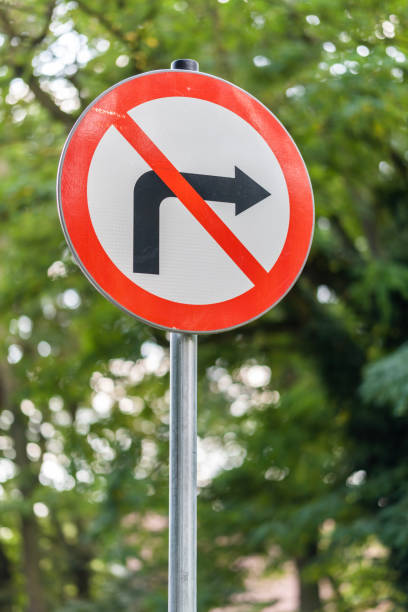saga_girilmez: (52, 77, 315, 332)
